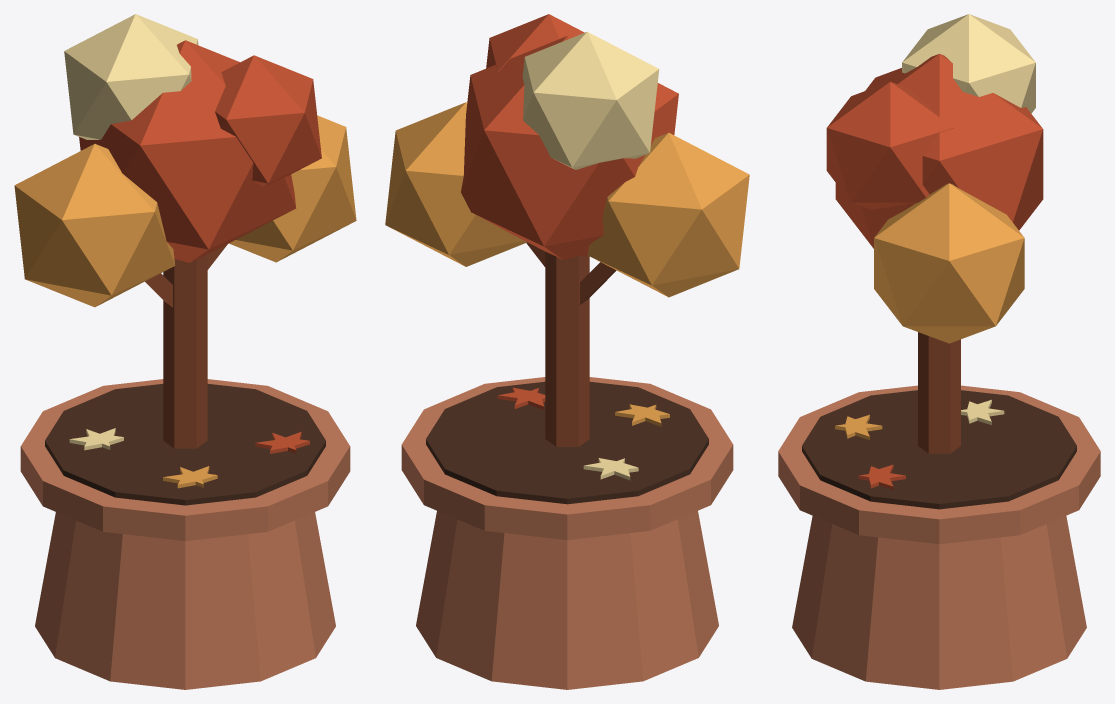
Rendered from CatCafe_Decor_MapleTreePlanter.glb.
3 views of the same model, side by side, from view 1: azimuth 30°, elevation 25°; view 2: azimuth 150°, elevation 25°; view 3: azimuth 270°, elevation 25° (orthographic). The views are drawn at different scales.
Parts seen in each view (by area): view 1: CatCafe_Decor_MapleTreePlanter; view 2: CatCafe_Decor_MapleTreePlanter; view 3: CatCafe_Decor_MapleTreePlanter.
Part boxes in pixels (x1,y1,x2,y2): CatCafe_Decor_MapleTreePlanter: (14, 14, 356, 689); CatCafe_Decor_MapleTreePlanter: (385, 14, 749, 689); CatCafe_Decor_MapleTreePlanter: (778, 14, 1100, 689).
Bounding box in the file's own units: 1.9 × 3.35 × 1.64.
Materials: 1 (1 with a texture image).
